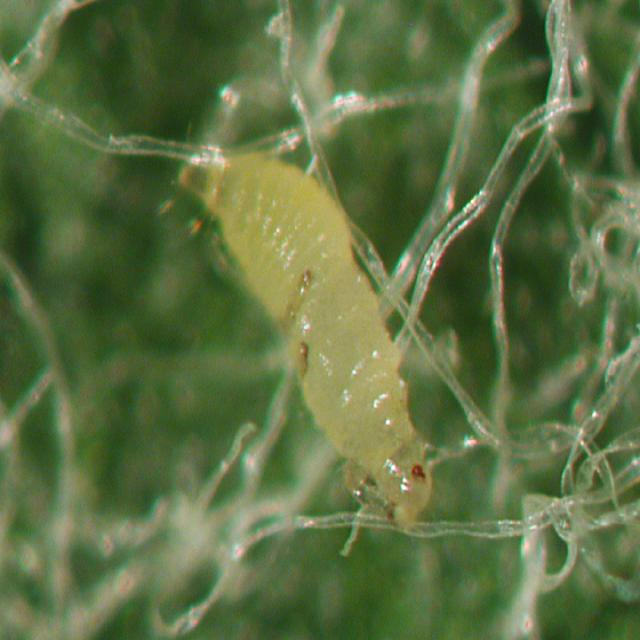Thrip-Larva-: (155, 122, 464, 540)
